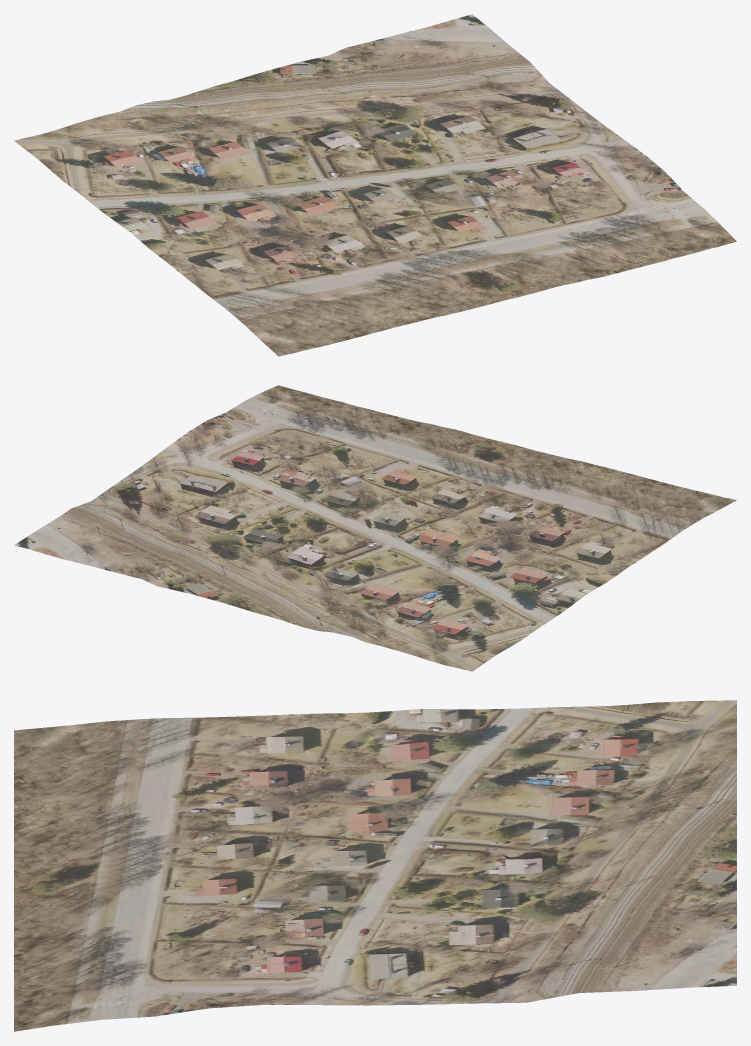
Rendered from CM_Terrain_24489844_6819794.fbx.
3 renders of one model, top to bottom at view 1: azimuth 30°, elevation 25°; view 2: azimuth 150°, elevation 25°; view 3: azimuth 270°, elevation 25°, orthographic. The views are drawn at different scales.
Visible parts, largest first — view 1: CM_Terrain_24489844_6819794_LOD0; view 2: CM_Terrain_24489844_6819794_LOD0; view 3: CM_Terrain_24489844_6819794_LOD0.
Boxes of the visible parts, x1,y1,x2,y2 form: CM_Terrain_24489844_6819794_LOD0: (14, 14, 736, 356); CM_Terrain_24489844_6819794_LOD0: (14, 385, 736, 671); CM_Terrain_24489844_6819794_LOD0: (14, 700, 736, 1031).
Size of what is drawn, in the model's own units: 205 by 15.93 by 205.
